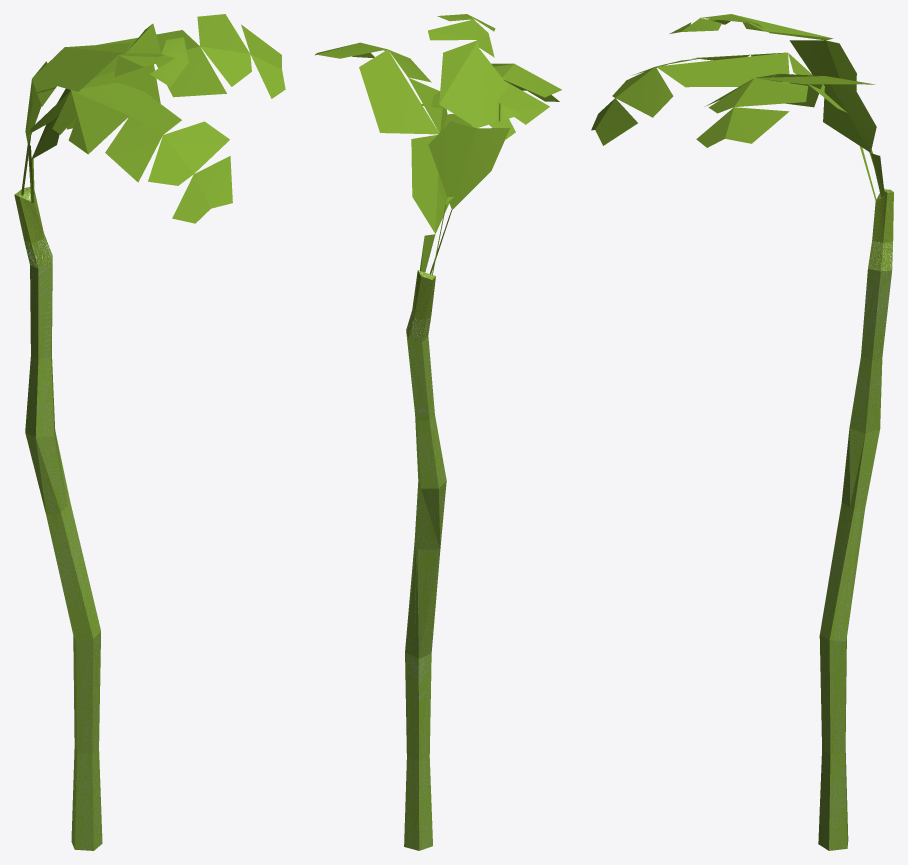
File: Tree_Bamboo_03.fbx
The picture shows the model from 3 angles, left to right: view 1: azimuth 30°, elevation 25°; view 2: azimuth 150°, elevation 25°; view 3: azimuth 270°, elevation 25°; orthographic projection. The views are drawn at different scales.
Visible parts, largest first — view 1: Model; view 2: Model; view 3: Model.
Part boxes in pixels (x1,y1,x2,y2): Model: [14, 14, 285, 850]; Model: [315, 14, 561, 850]; Model: [591, 14, 893, 850].
Size of the model in its own units: 210 by 730 by 240.
